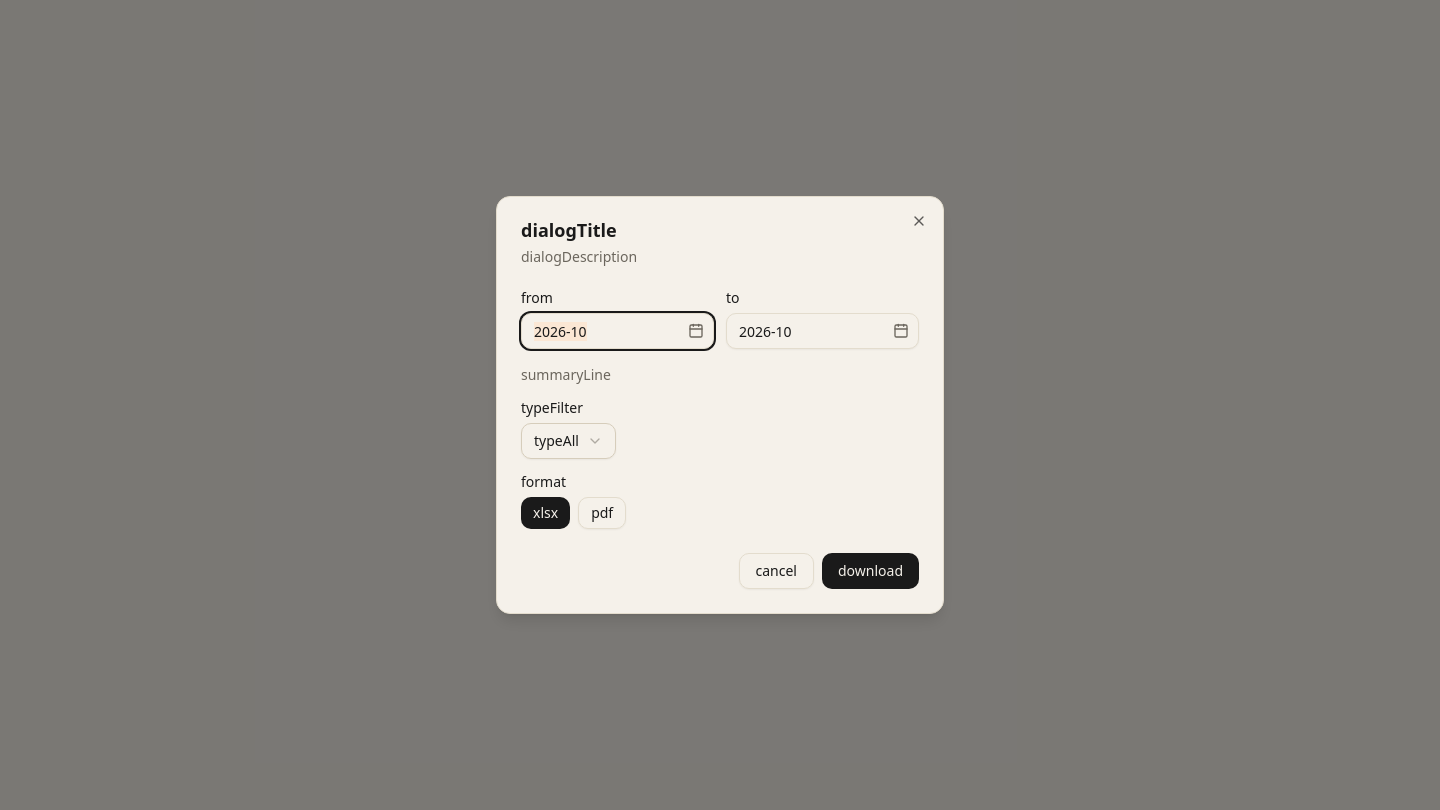
Test: InvoiceExportDialog — render › accepts a typed MM/YYYY month and normalises it
The image size is (1440, 810).
Replace the text in the field with id "invoice-export-from" with "09/2026" at (618, 331), box x1=521 y1=313 x2=714 y2=349
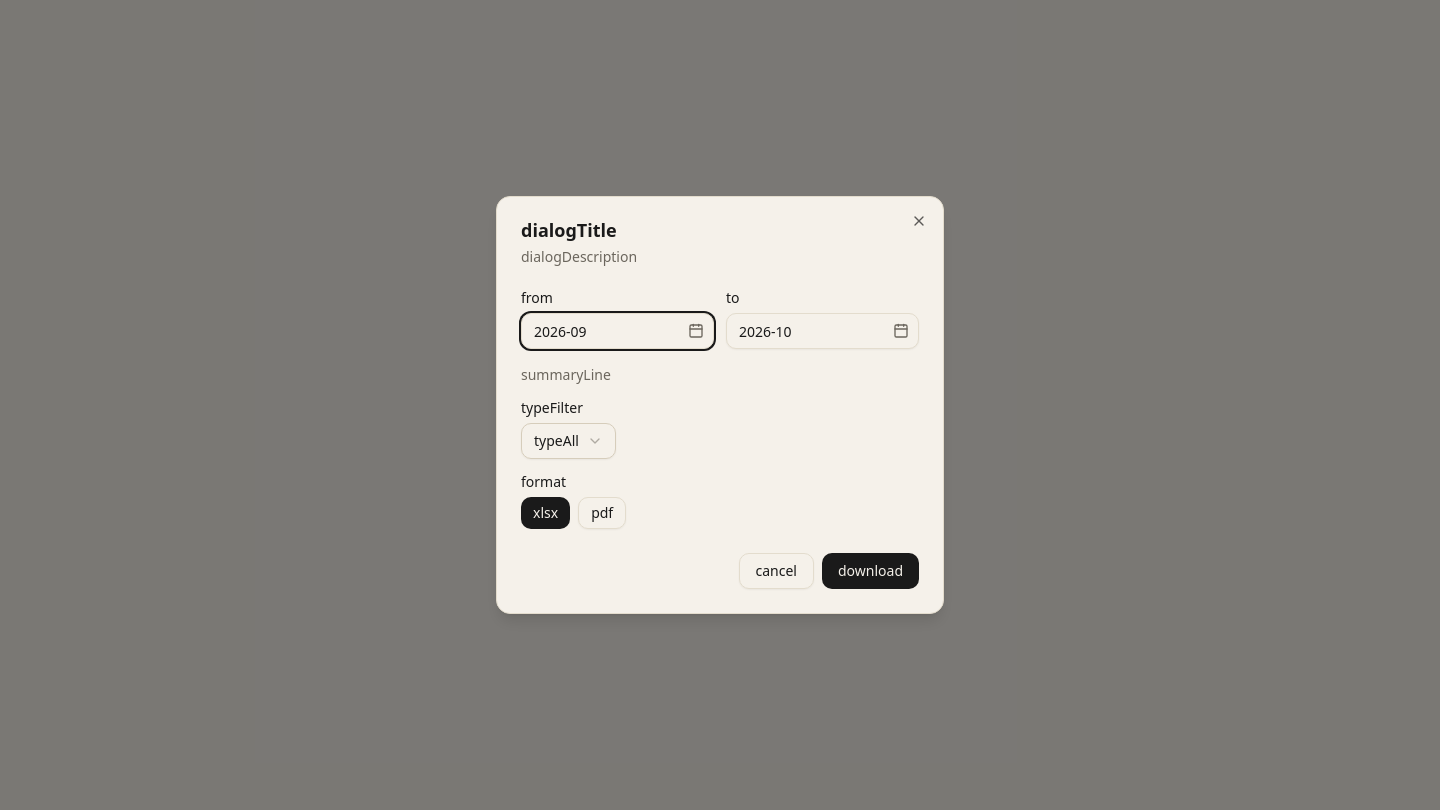
Result: the field with id "invoice-export-from" holds "2026-09" at x1=521 y1=313 x2=714 y2=349
